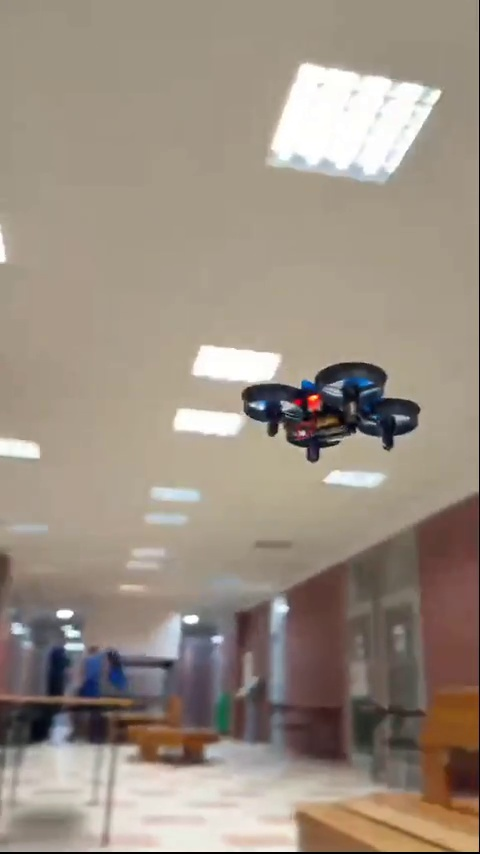drone: (249, 362, 425, 470)
no vest: (42, 639, 72, 699), (74, 641, 106, 693)
